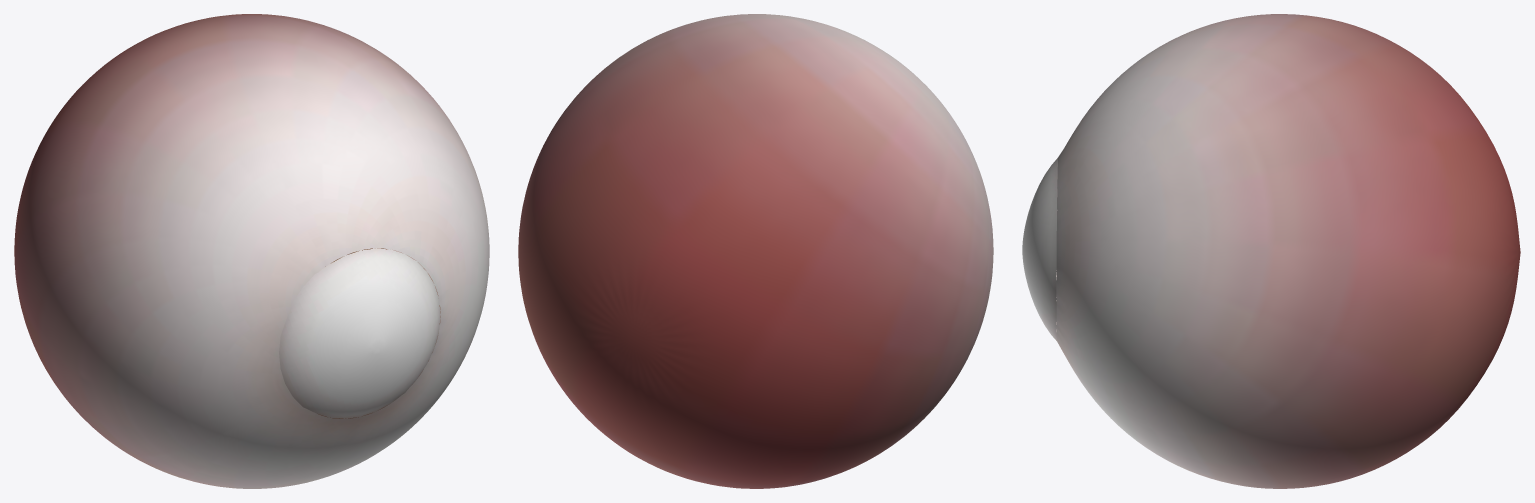
File: cataract-eye.glb
3 views of the same model, side by side, from view 1: azimuth 30°, elevation 25°; view 2: azimuth 150°, elevation 25°; view 3: azimuth 270°, elevation 25° (orthographic).
Visible parts, largest first — view 1: Sclera; view 2: Sclera; view 3: Sclera.
Part boxes in pixels (x1,y1,x2,y2): Sclera: (14, 14, 489, 488); Sclera: (518, 14, 993, 488); Sclera: (1022, 14, 1520, 488).
Size of the model in its own units: 0.0281 by 0.0281 by 0.0295.
3 materials, 3 textured.
